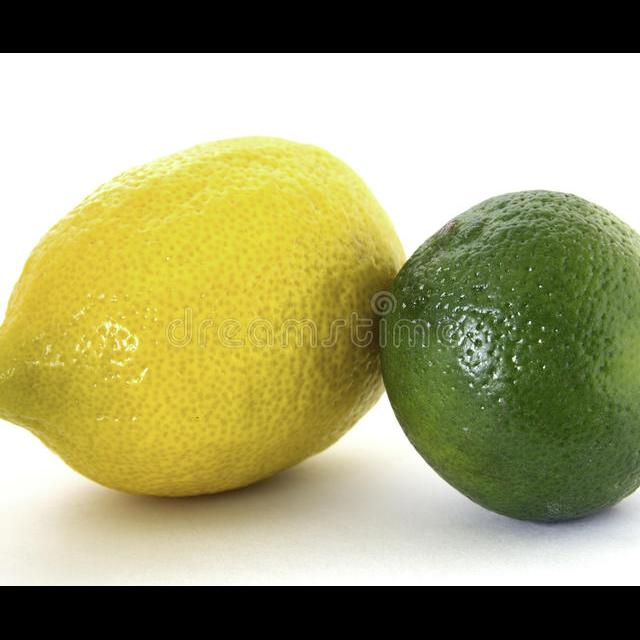lime: (372, 181, 640, 531)
